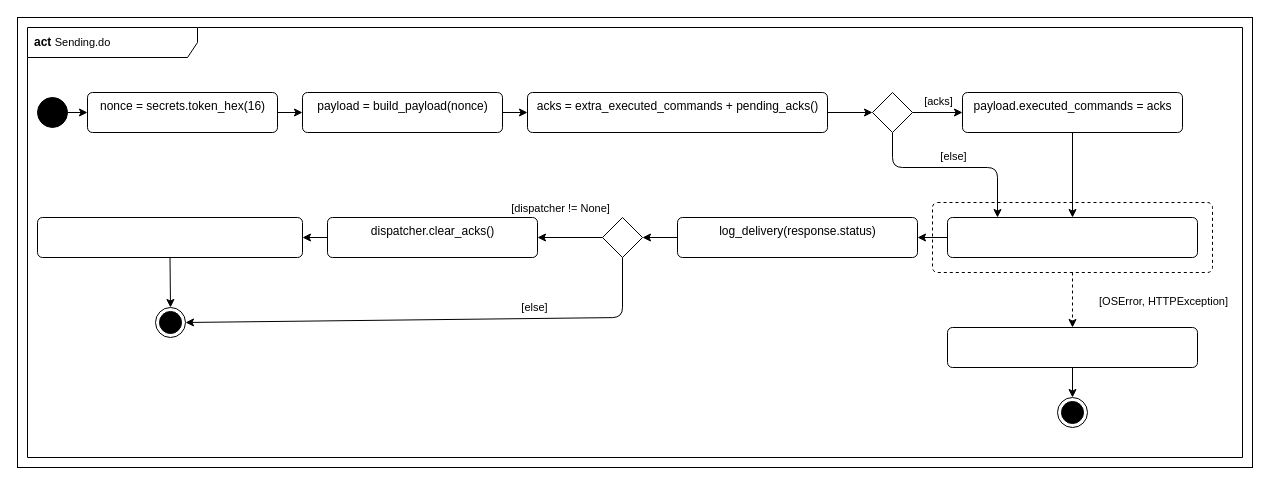
Some shapes in this 1270 by 485 pixel diagram are drawn without their labels. The centre of each missing label's shape, as x and y in pixels:
"log warning, failed_since_delivery += 1" belongs at (1072,347).
"process_remote_response(response, nonce)" belongs at (169,237).
"response = POST(url, payload, timeout_s)" belongs at (1072,237).
